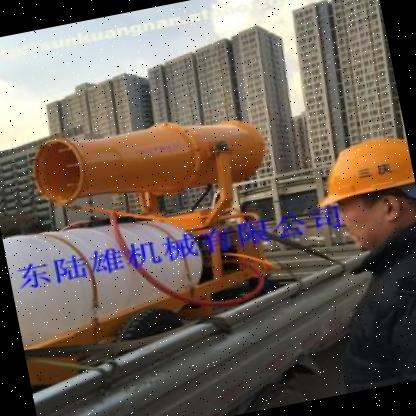capacete: (299, 125, 416, 264)
